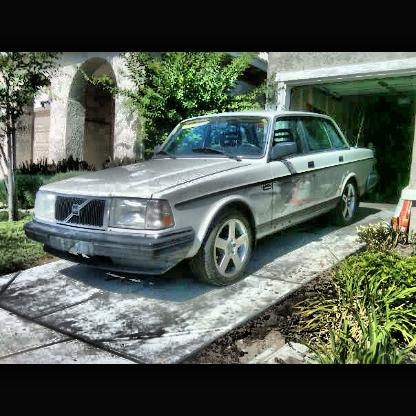Volvo 240 Sedan 1993: (24, 113, 391, 289)
